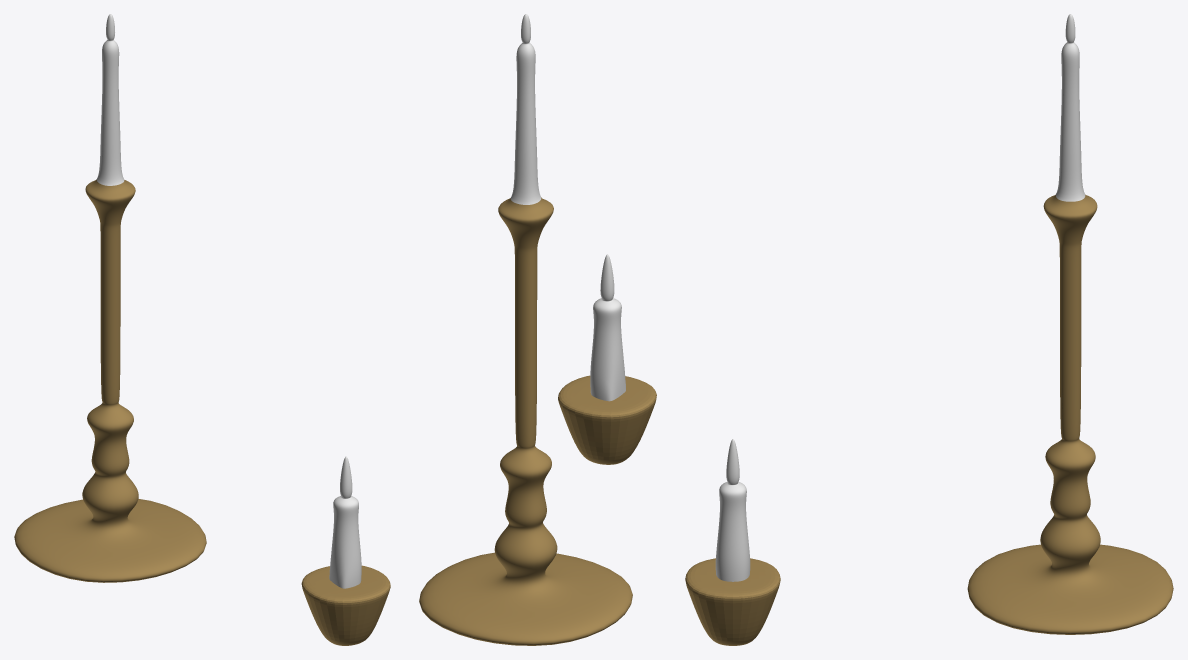
The model's file is candle.fbx.
3 renders of one model, left to right at view 1: azimuth 30°, elevation 25°; view 2: azimuth 150°, elevation 25°; view 3: azimuth 270°, elevation 25°, orthographic. The views are drawn at different scales.
Visible parts, largest first — view 1: Cube, Cube.002; view 2: Cube, Cube.002; view 3: Cube, Cube.002.
Boxes of the visible parts, x1,y1,x2,y2 form: Cube: [14, 14, 206, 582]; Cube.002: [301, 456, 390, 645]; Cube: [419, 14, 632, 645]; Cube.002: [558, 254, 656, 464]; Cube: [967, 14, 1173, 634]; Cube.002: [685, 439, 780, 645].
Bounding box in the file's own units: 60.25 × 154 × 116.
